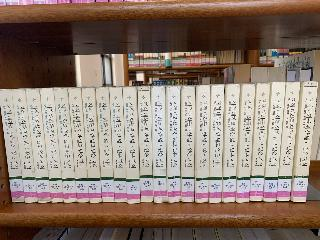book-spine: (292, 81, 318, 203), (25, 87, 51, 204), (12, 88, 38, 204), (262, 81, 286, 202), (40, 87, 65, 203), (276, 81, 300, 201), (0, 88, 25, 203), (54, 88, 77, 204), (249, 81, 271, 201), (68, 87, 90, 204), (82, 87, 103, 203), (236, 84, 255, 203), (122, 86, 141, 204), (96, 87, 115, 202), (222, 84, 240, 203), (109, 87, 127, 203), (151, 87, 167, 203), (137, 86, 153, 202), (209, 84, 224, 204), (195, 85, 210, 203), (166, 86, 181, 203), (181, 86, 195, 202)
